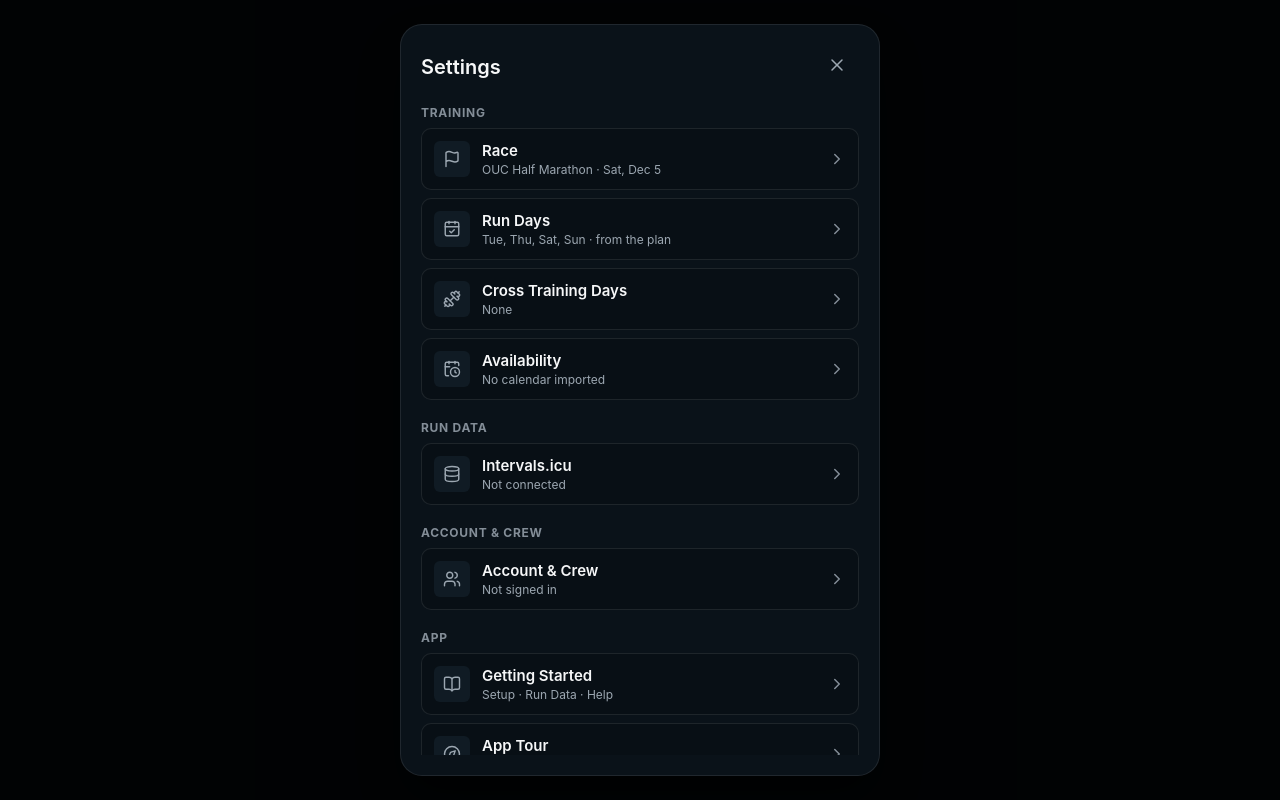
Scenario: choosing which days to run › says what dropping a day would do before it does it
Click the button "Run Days Tue, Thu, Sat, Sun · from the plan" at (640, 229), box [421, 198, 859, 260]
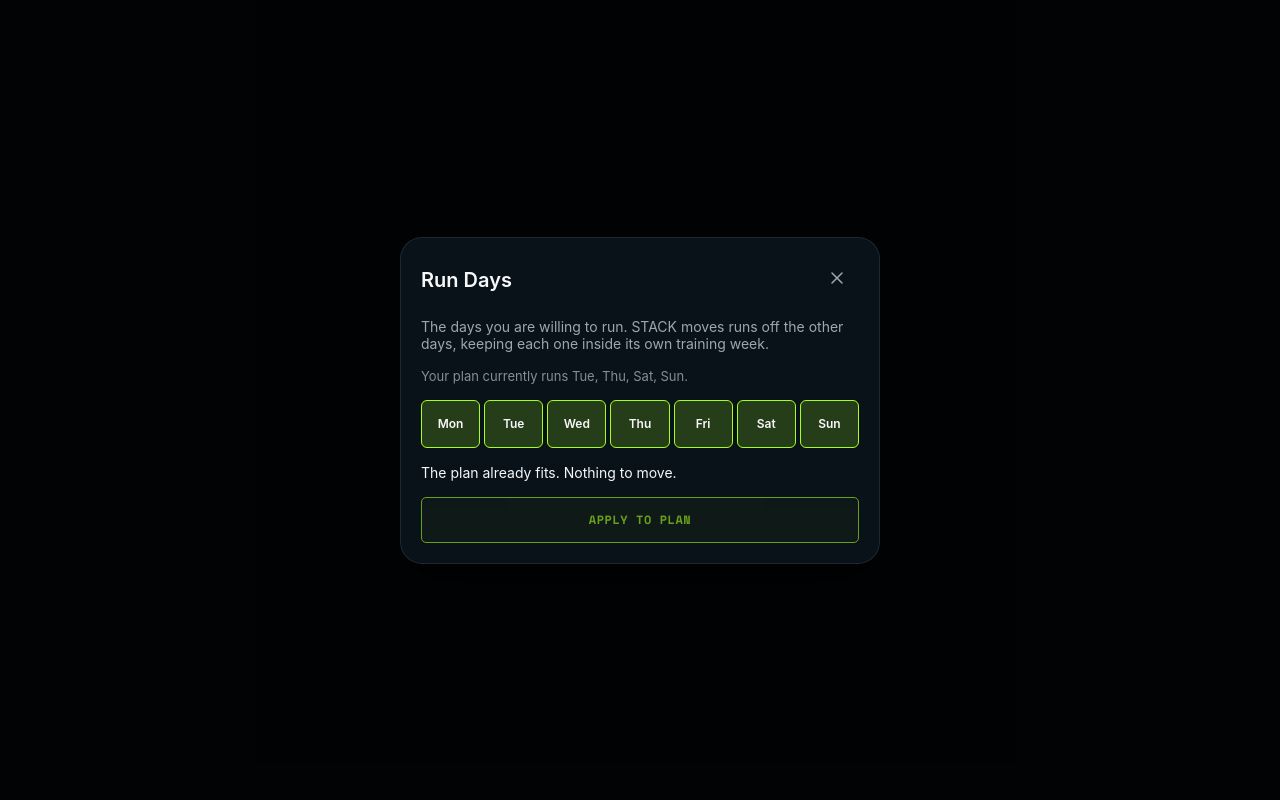
Click the button named "Sunday" at (829, 424), box [800, 400, 859, 448]
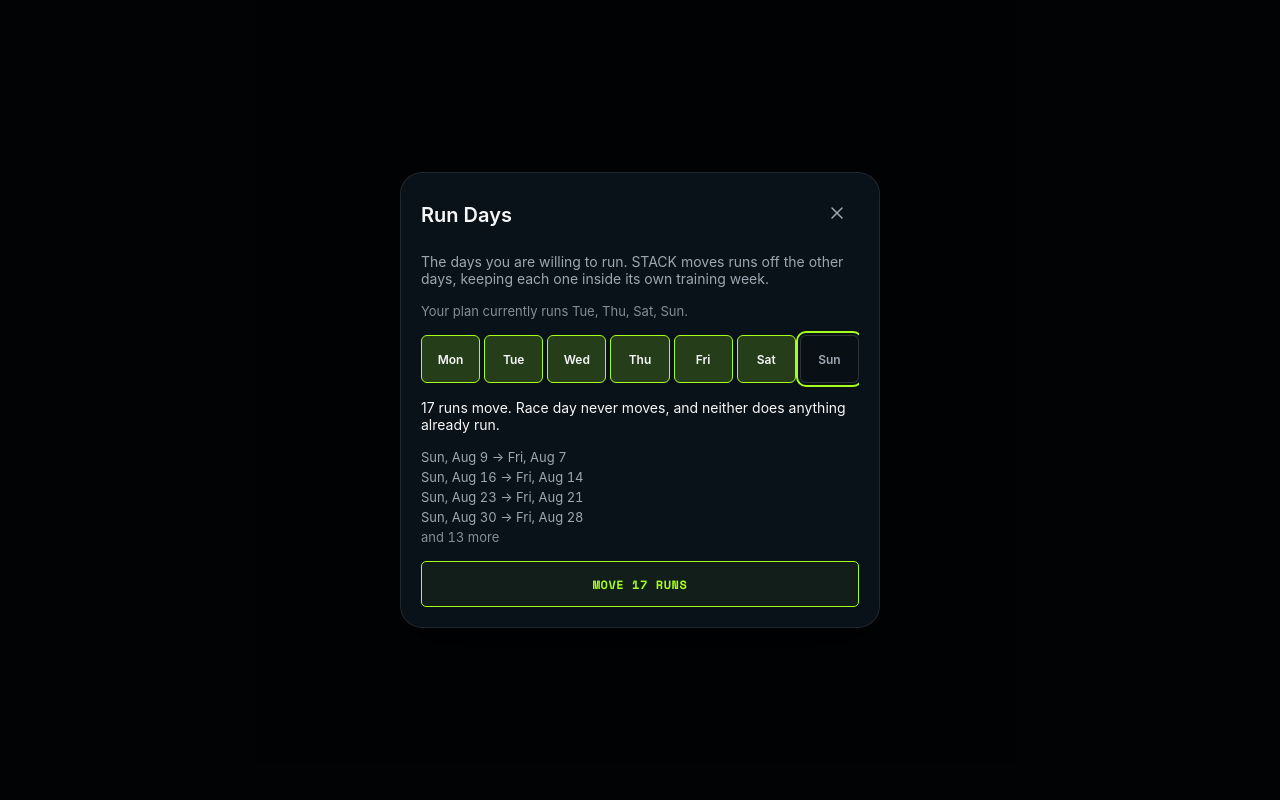
Result: the text "17 runs move" is shown at [421, 399, 846, 433]
